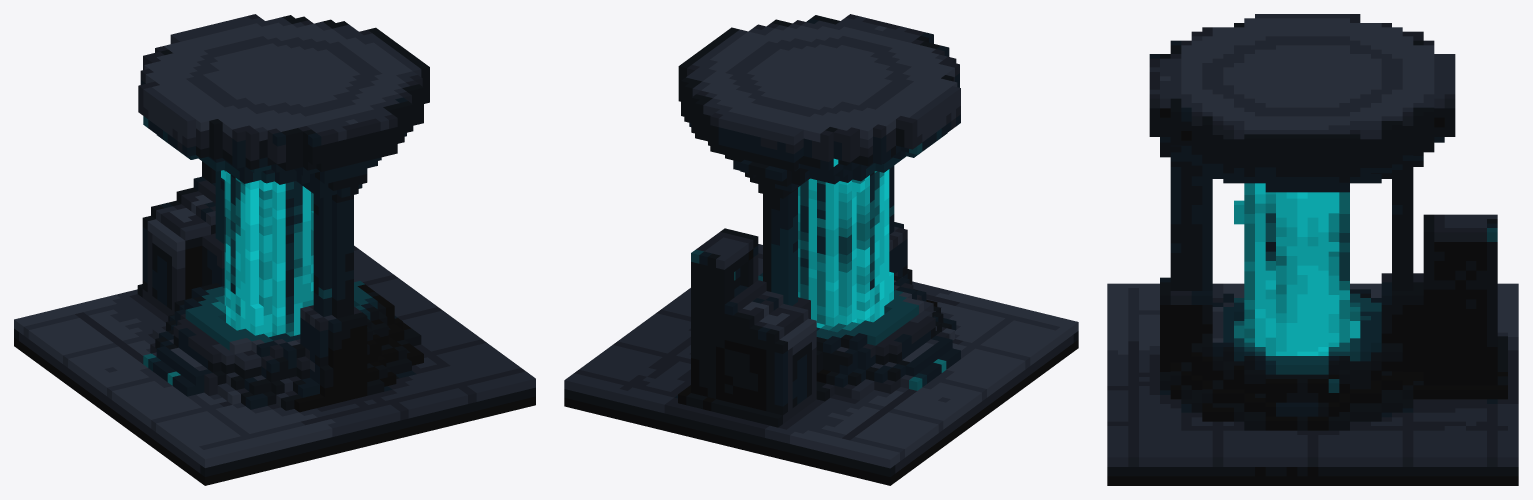
Rendered from teleport-station-named-nodes.glb.
3 renders of one model, left to right at view 1: azimuth 30°, elevation 25°; view 2: azimuth 150°, elevation 25°; view 3: azimuth 270°, elevation 25°, orthographic. The views are drawn at different scales.
Parts seen in each view (by area): view 1: geometry_0; view 2: geometry_0; view 3: geometry_0.
Boxes of the visible parts, x1,y1,x2,y2 form: geometry_0: (14,14,535,485); geometry_0: (564,14,1078,485); geometry_0: (1107,14,1518,485).
Bounding box in the file's own units: 1.01 × 0.8773 × 1.01.
Materials: 1 (1 with a texture image).
